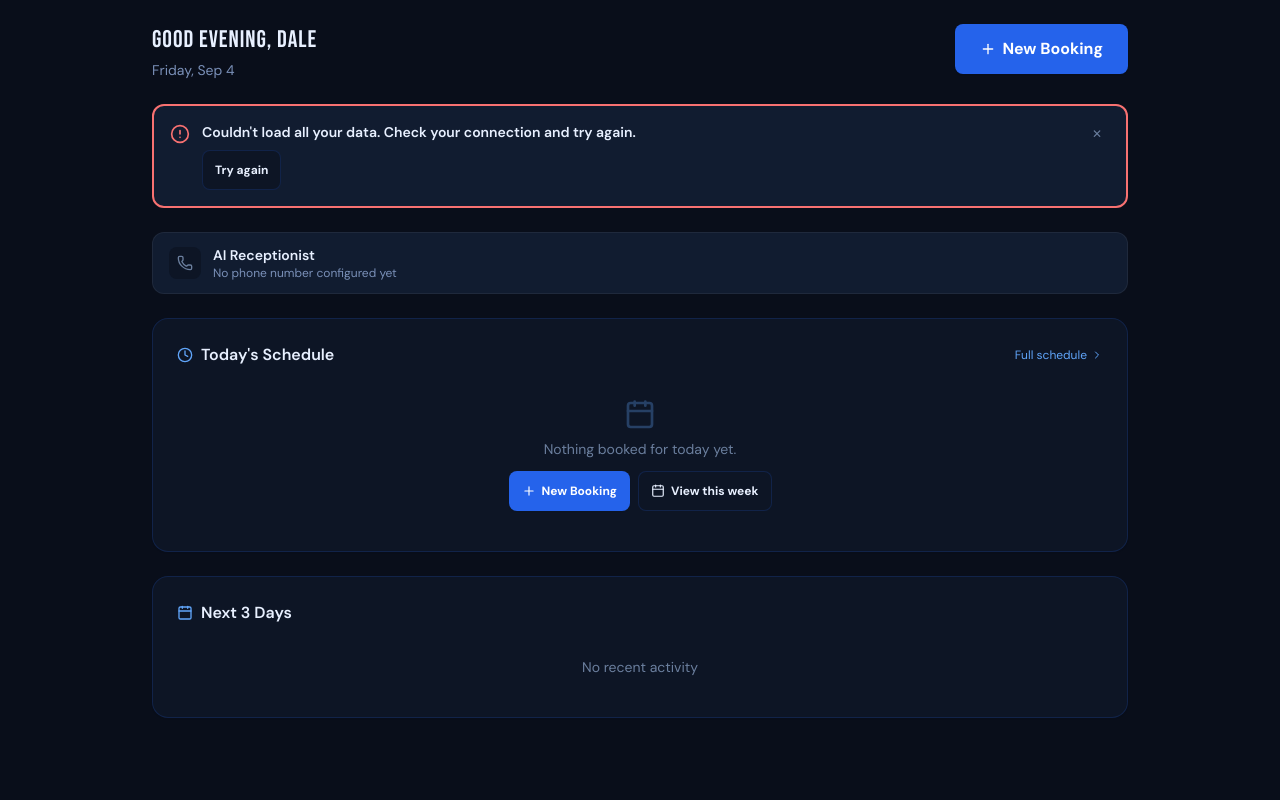
Test: DashboardHome — load error visibility › HAPPY: retry button re-fetches and clears the error when it succeeds
Click the button "Try again" at (242, 170), box [202, 150, 282, 190]
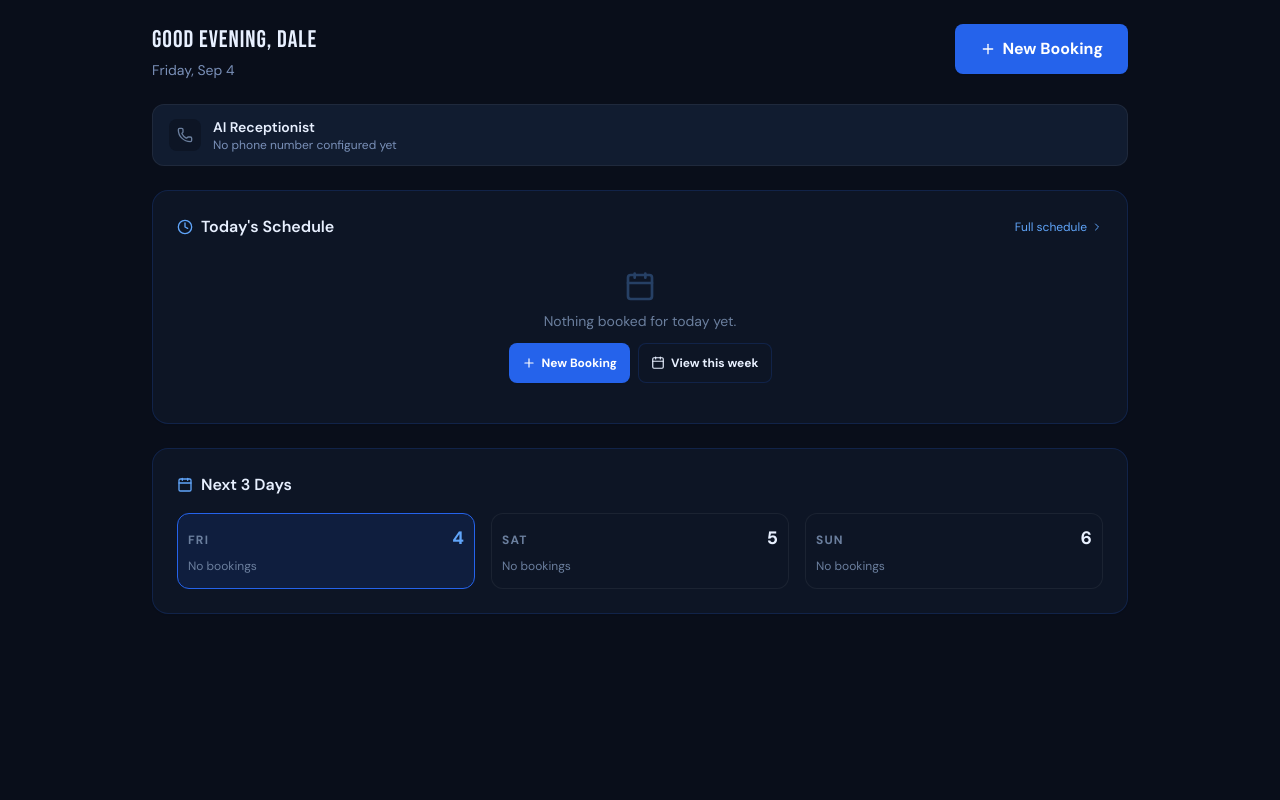
Now the message "Couldn't load all your data. Check your connection and try again. Try again ✕" is gone
